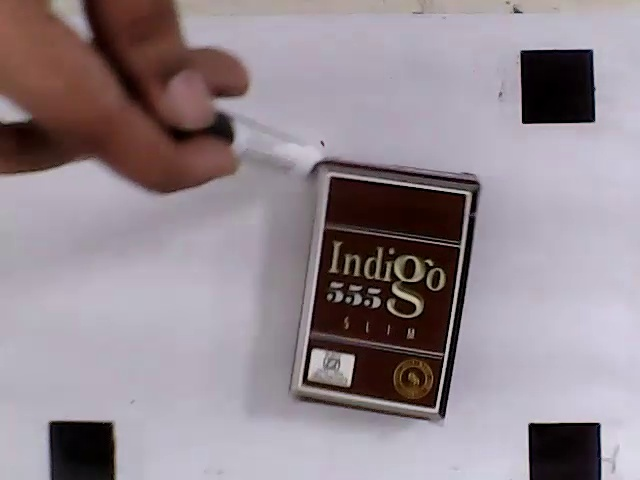BEX: (302, 174, 469, 408)
